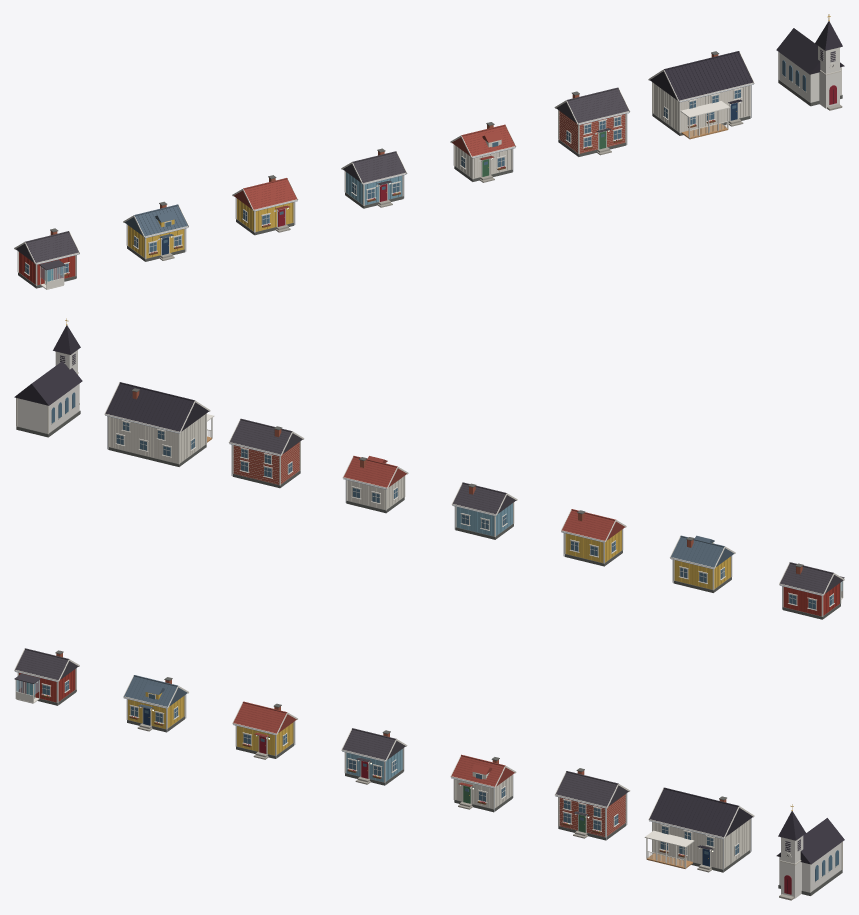
The model's file is town-houses.glb.
The picture shows the model from 3 angles, top to bottom: view 1: azimuth 30°, elevation 25°; view 2: azimuth 150°, elevation 25°; view 3: azimuth 330°, elevation 25°; orthographic projection.
Visible parts, largest first — view 1: House_Big_sheet_black, Church_church, House_Big_white_wall, House_Big_trim, Church_sheet_black, House_Brick_tile_dark, House_Red_tile_dark, House_Brick_brick_juni, House_Blue_tile_dark, House_Yellow_B_tile_red, House_Yellow_sheet_grey, House_White_tile_red (+10 smaller); view 2: House_Big_sheet_black, House_Big_white_wall, Church_sheet_black, Church_church, House_Brick_brick_juni, House_Brick_tile_dark, House_Yellow_sheet_grey, House_White_tile_red, House_Big_white_wall_d, House_Red_tile_dark, House_Yellow_B_tile_red, House_Blue_tile_dark (+7 smaller); view 3: House_Big_sheet_black, Church_church, House_Big_white_wall, Church_sheet_black, House_Big_trim, House_Brick_tile_dark, House_Red_tile_dark, House_Brick_brick_juni, House_Blue_tile_dark, House_Yellow_B_tile_red, House_Yellow_sheet_grey, House_White_tile_red (+12 smaller).
Boxes of the visible parts, left/top/right/bottom form: House_Big_sheet_black: left=650, top=51, right=753, bottom=103; Church_church: left=779, top=46, right=841, bottom=108; House_Big_white_wall: left=653, top=83, right=749, bottom=132; House_Big_trim: left=648, top=51, right=754, bottom=138; Church_sheet_black: left=776, top=21, right=844, bottom=74; House_Brick_tile_dark: left=556, top=87, right=628, bottom=132; House_Red_tile_dark: left=15, top=231, right=78, bottom=270; House_Brick_brick_juni: left=559, top=111, right=625, bottom=153; House_Blue_tile_dark: left=343, top=151, right=406, bottom=184; House_Yellow_B_tile_red: left=234, top=178, right=296, bottom=209; House_Yellow_sheet_grey: left=124, top=204, right=188, bottom=238; House_White_tile_red: left=452, top=124, right=515, bottom=160; House_Big_sheet_black: left=105, top=382, right=208, bottom=431; House_Big_white_wall: left=109, top=415, right=205, bottom=463; Church_sheet_black: left=14, top=325, right=82, bottom=405; Church_church: left=17, top=350, right=79, bottom=433; House_Brick_brick_juni: left=233, top=442, right=299, bottom=484; House_Brick_tile_dark: left=229, top=418, right=302, bottom=454; House_Yellow_sheet_grey: left=670, top=535, right=734, bottom=567; House_White_tile_red: left=343, top=456, right=406, bottom=487; House_Big_white_wall_d: left=110, top=414, right=205, bottom=462; House_Red_tile_dark: left=780, top=562, right=844, bottom=594; House_Yellow_B_tile_red: left=562, top=509, right=624, bottom=540; House_Blue_tile_dark: left=453, top=482, right=515, bottom=514; House_Big_sheet_black: left=649, top=787, right=752, bottom=849; Church_church: left=779, top=835, right=841, bottom=898; House_Big_white_wall: left=653, top=819, right=749, bottom=868; Church_sheet_black: left=776, top=811, right=844, bottom=864; House_Big_trim: left=644, top=788, right=754, bottom=869; House_Brick_tile_dark: left=555, top=771, right=628, bottom=815; House_Red_tile_dark: left=14, top=648, right=78, bottom=683; House_Brick_brick_juni: left=559, top=794, right=625, bottom=836; House_Blue_tile_dark: left=342, top=728, right=405, bottom=761; House_Yellow_B_tile_red: left=233, top=701, right=296, bottom=736; House_Yellow_sheet_grey: left=124, top=675, right=187, bottom=708; House_White_tile_red: left=451, top=754, right=514, bottom=786.
Bounding box in the file's own units: 103 × 11.05 × 9.4.
